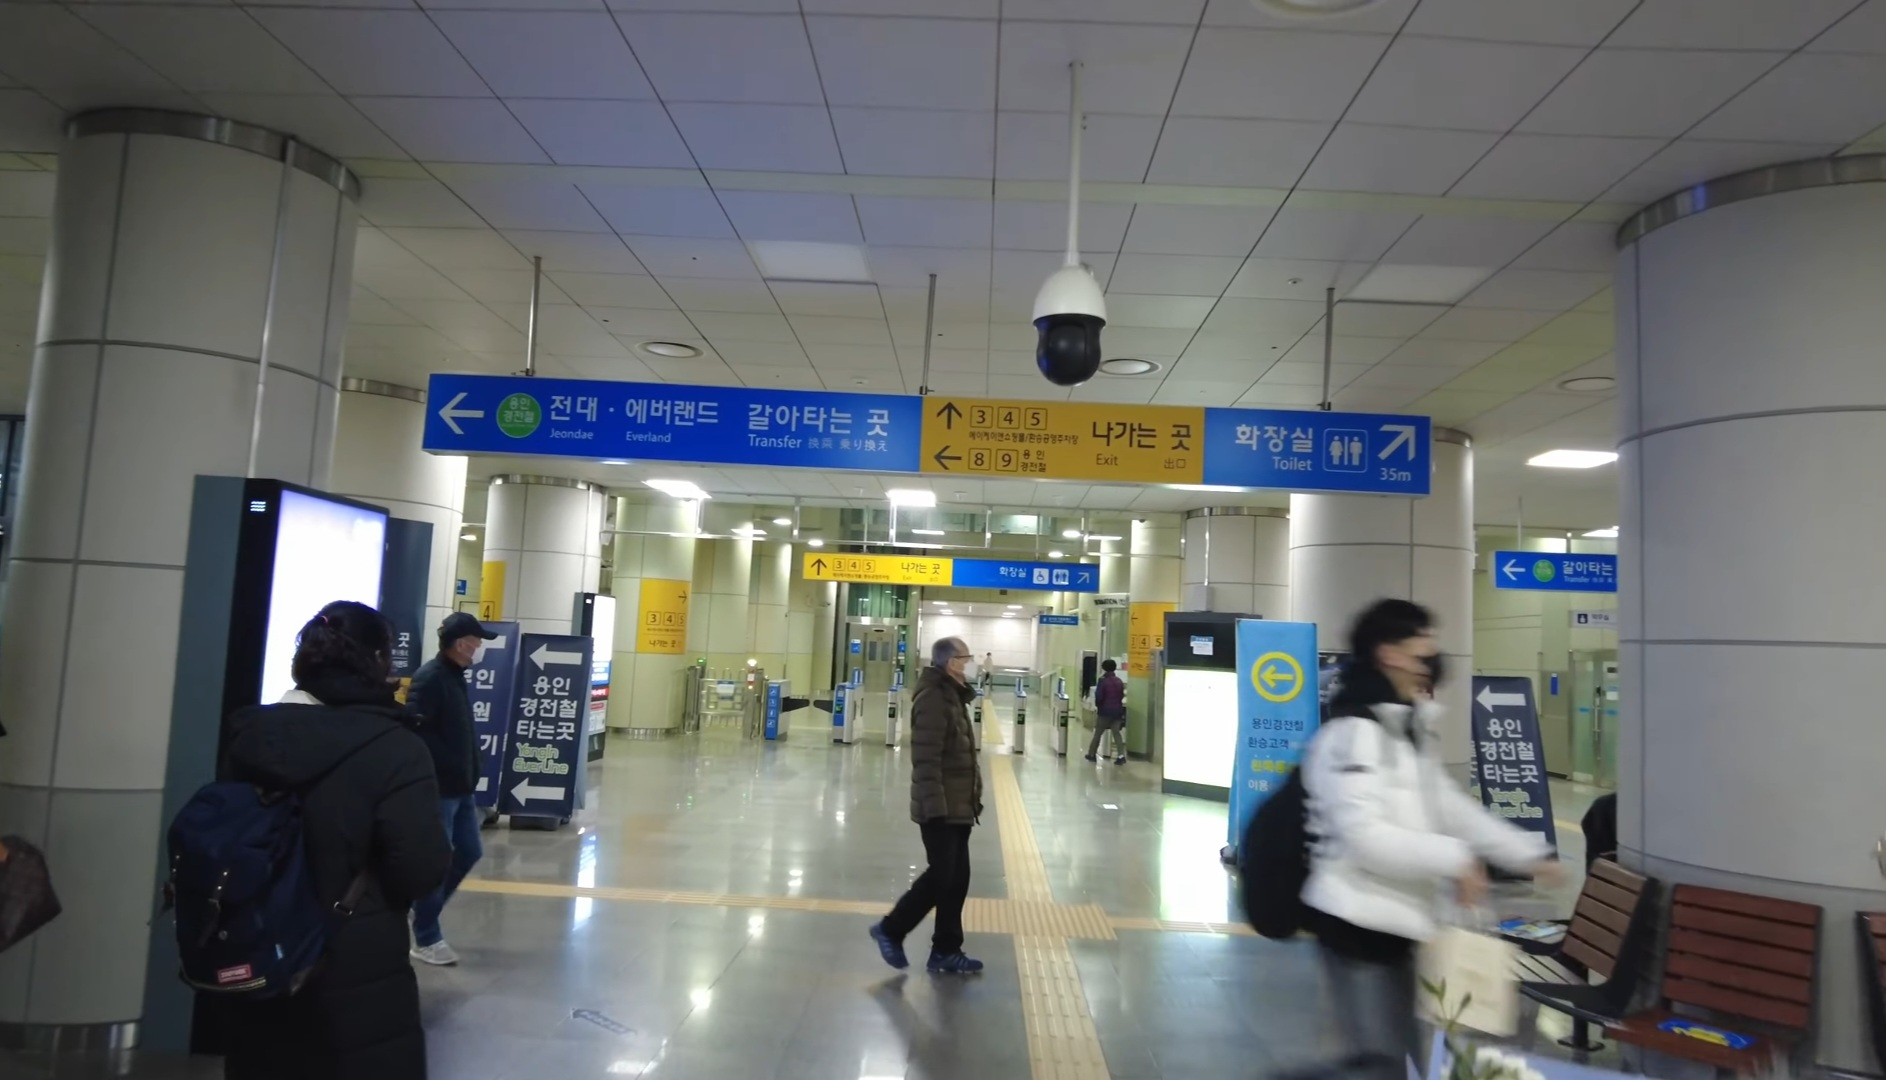signBoard: (416, 351, 1437, 501)
